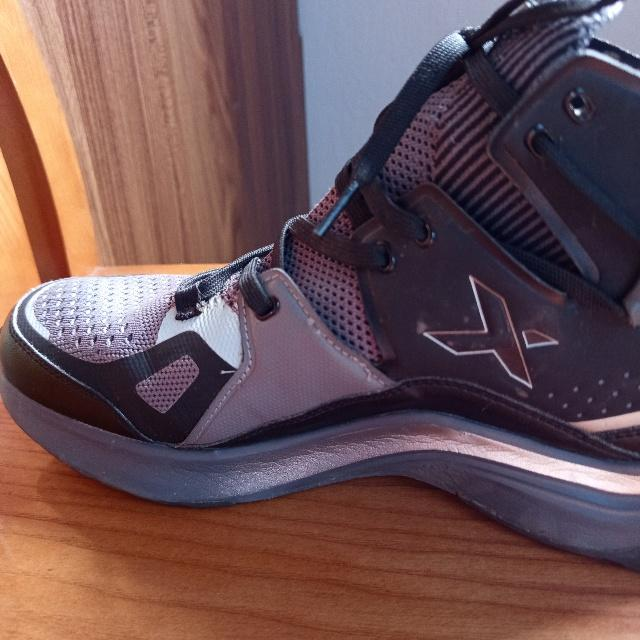broken-error: (306, 315, 322, 338)
